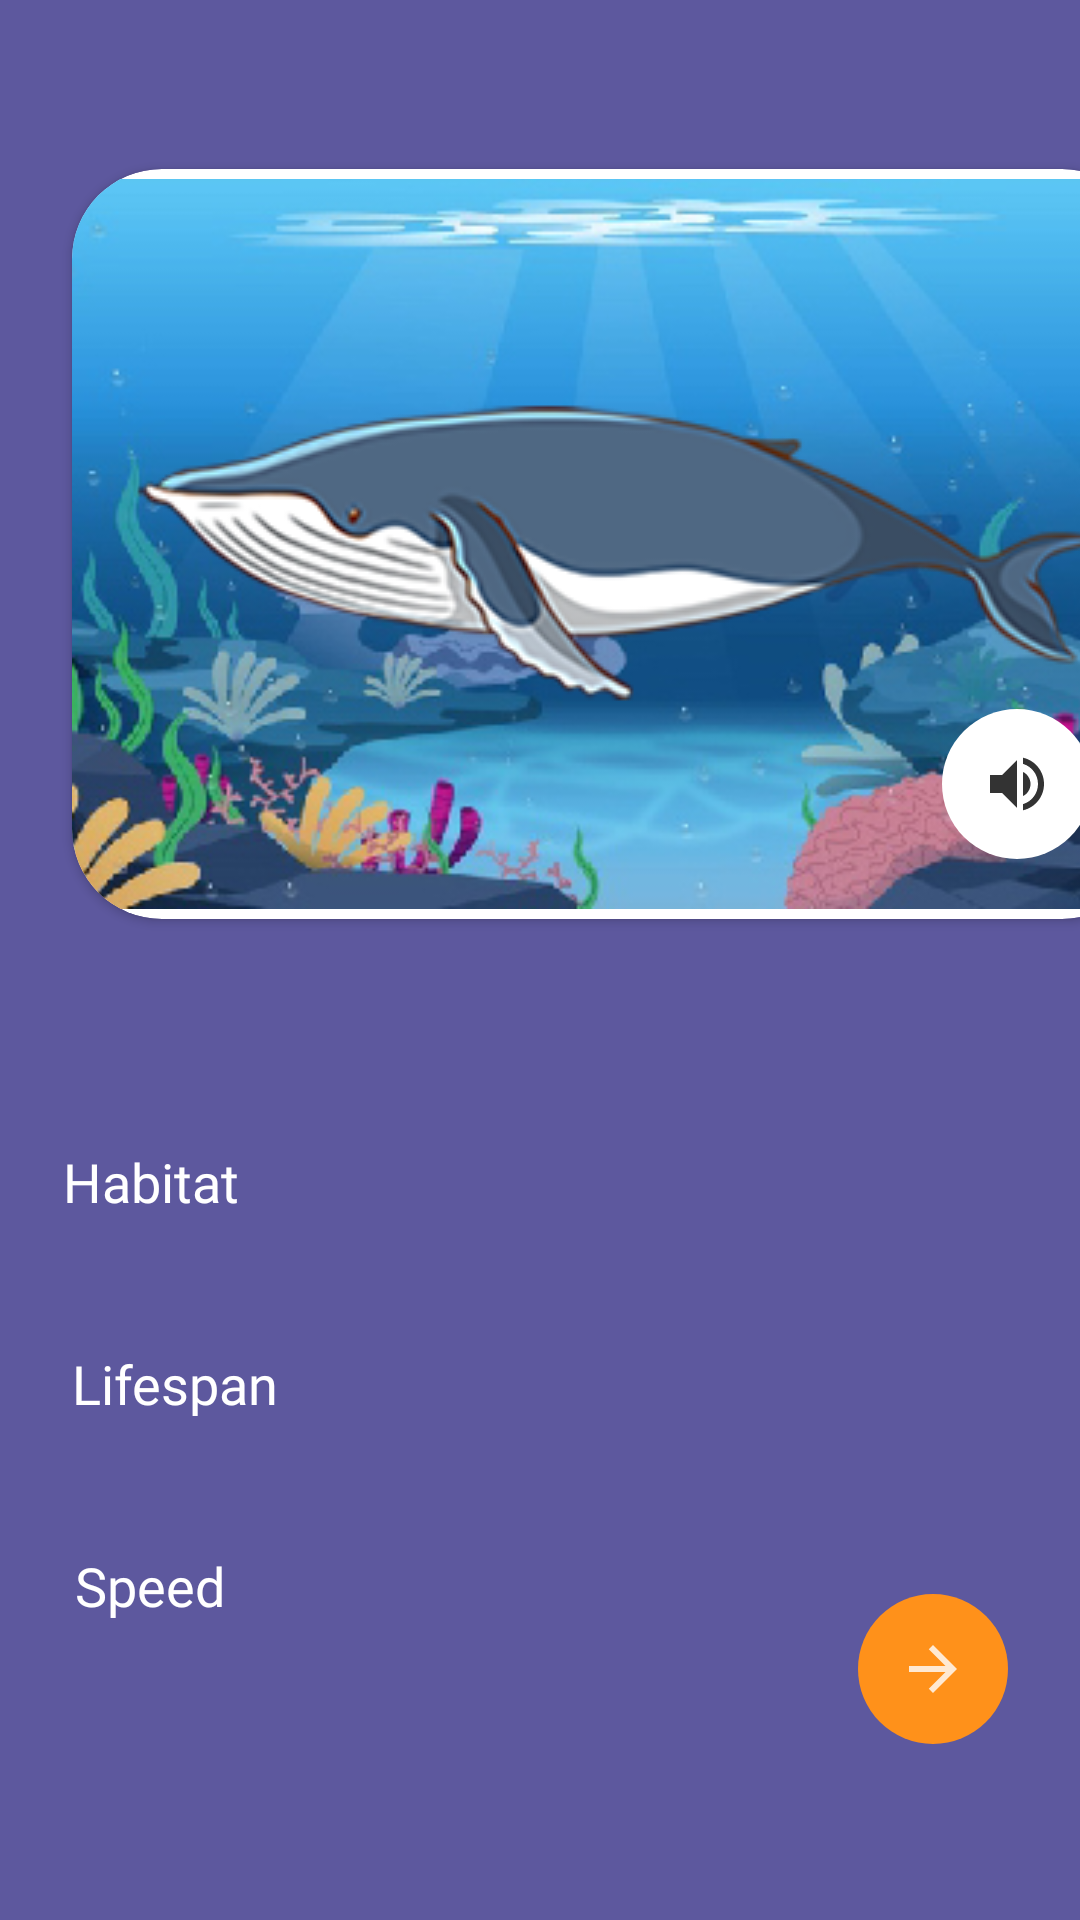

Named icons in this screenshot (1080 x 1920) and their bounding boxes, (x1, y1, x2, y2):
arrow next: (909, 1645, 957, 1693)
speaker: (990, 757, 1044, 811)
